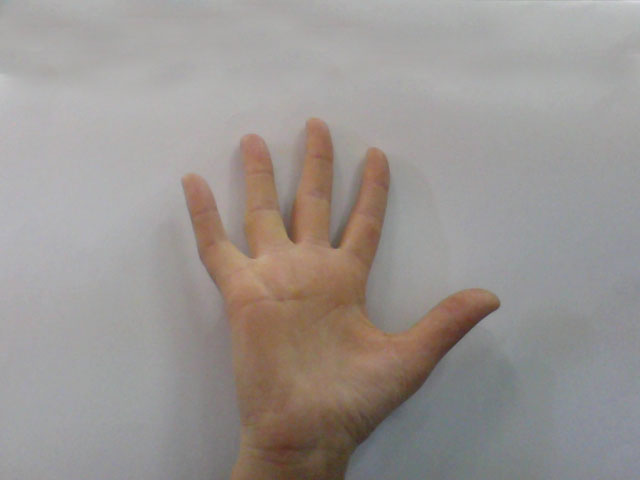hand: (171, 103, 517, 447)
